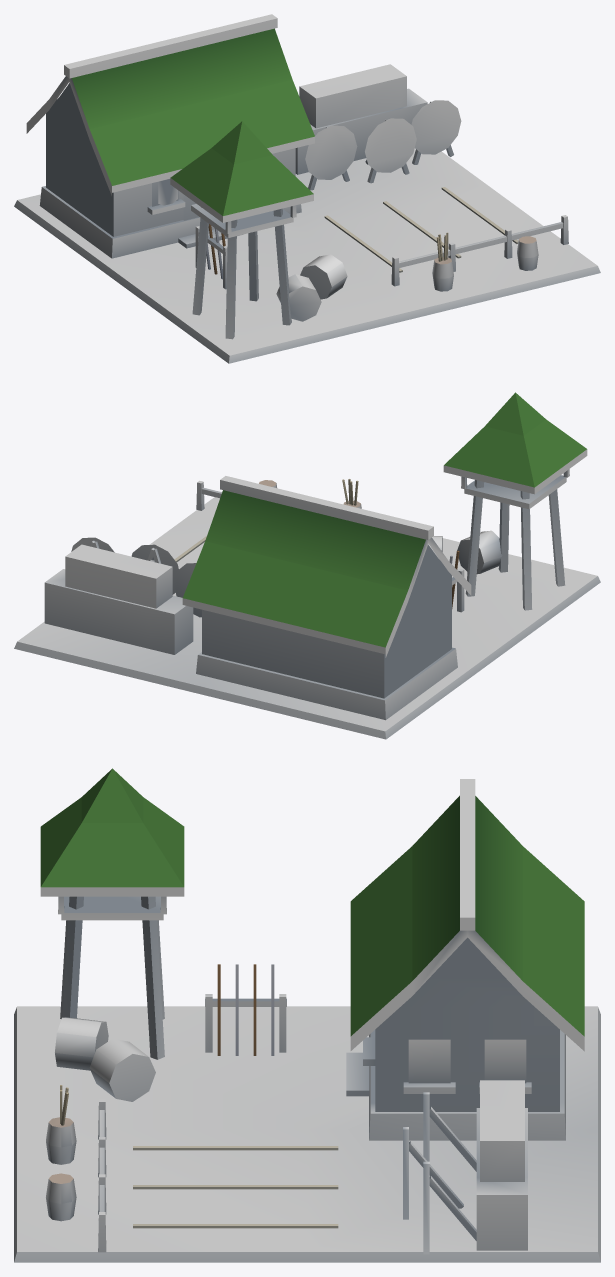
The model's file is archery_range_t3.glb.
3 views of the same model, one above another, from view 1: azimuth 30°, elevation 25°; view 2: azimuth 150°, elevation 25°; view 3: azimuth 270°, elevation 25° (orthographic). The views are drawn at different scales.
Visible parts, largest first — view 1: archery_range_t3; view 2: archery_range_t3; view 3: archery_range_t3.
Boxes of the visible parts, x1,y1,x2,y2 form: archery_range_t3: (14, 14, 600, 363); archery_range_t3: (14, 392, 600, 739); archery_range_t3: (14, 768, 600, 1262).
Bounding box in the file's own units: 2.93 × 1.5 × 2.86.
